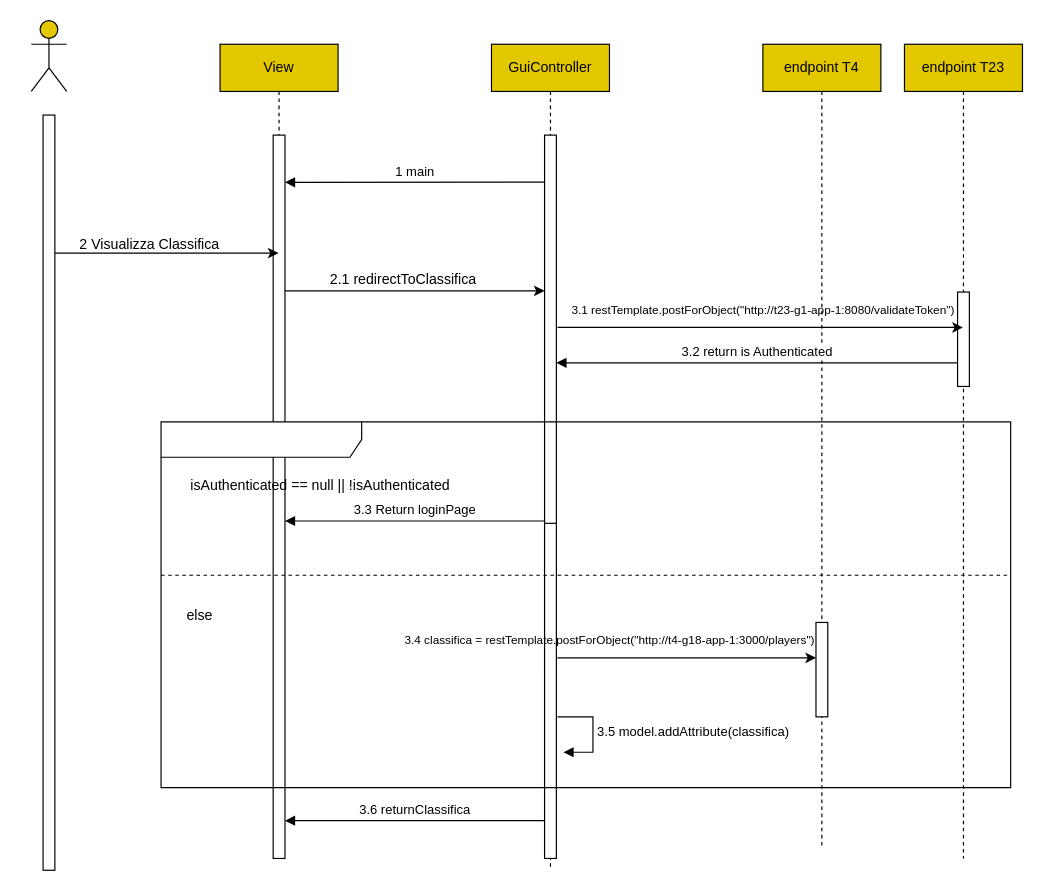
Some shapes in this 1043 by 891 pixel diagram are drawn without their labels. The shapes that lost their labels are listed below. From the top down, each one's box as (x1, y1, x2, y2) in pixels, then its label:
(30, 19, 67, 91): Studente
(160, 421, 1011, 788): alt
